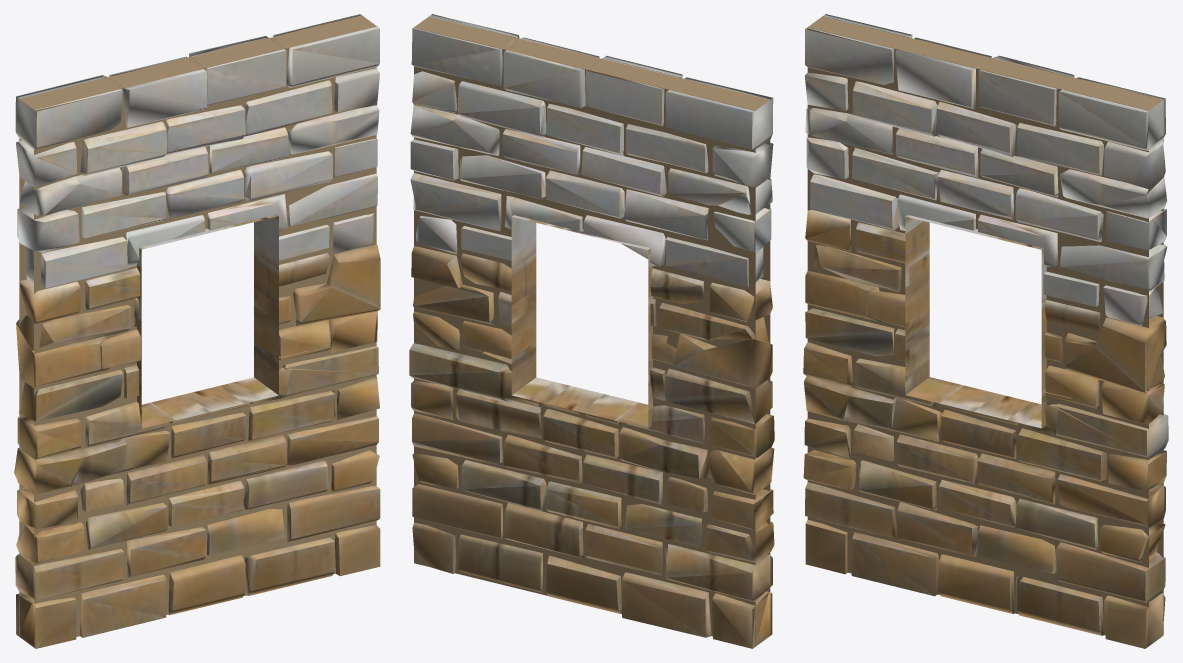
File: wall-plaster-window.lod1.glb
3 views of the same model, side by side, from view 1: azimuth 30°, elevation 25°; view 2: azimuth 150°, elevation 25°; view 3: azimuth 330°, elevation 25° (orthographic).
Bounding box in the file's own units: 2 × 3 × 0.25.
1 material, 1 textured.
